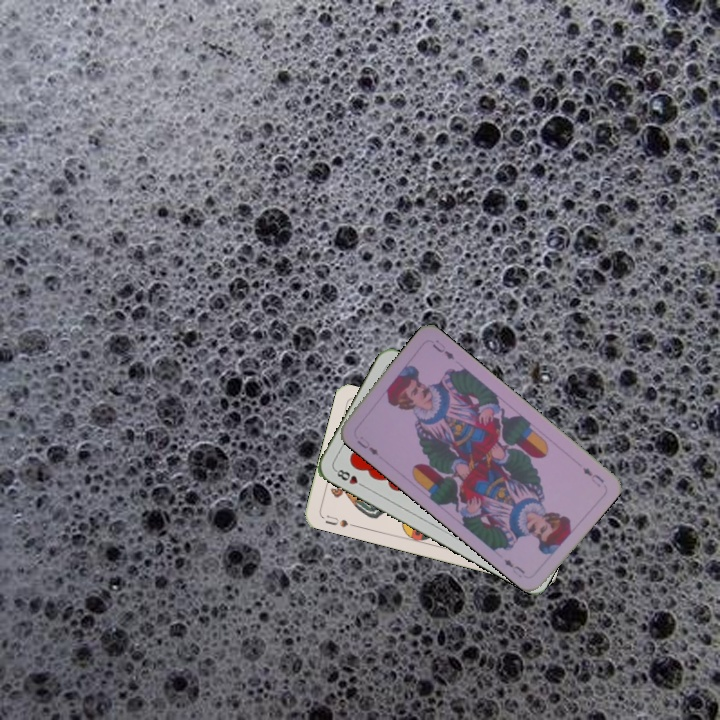EU: (579, 463, 607, 489), (353, 434, 381, 459)
H8: (331, 465, 368, 490)
SU: (321, 511, 358, 530)
